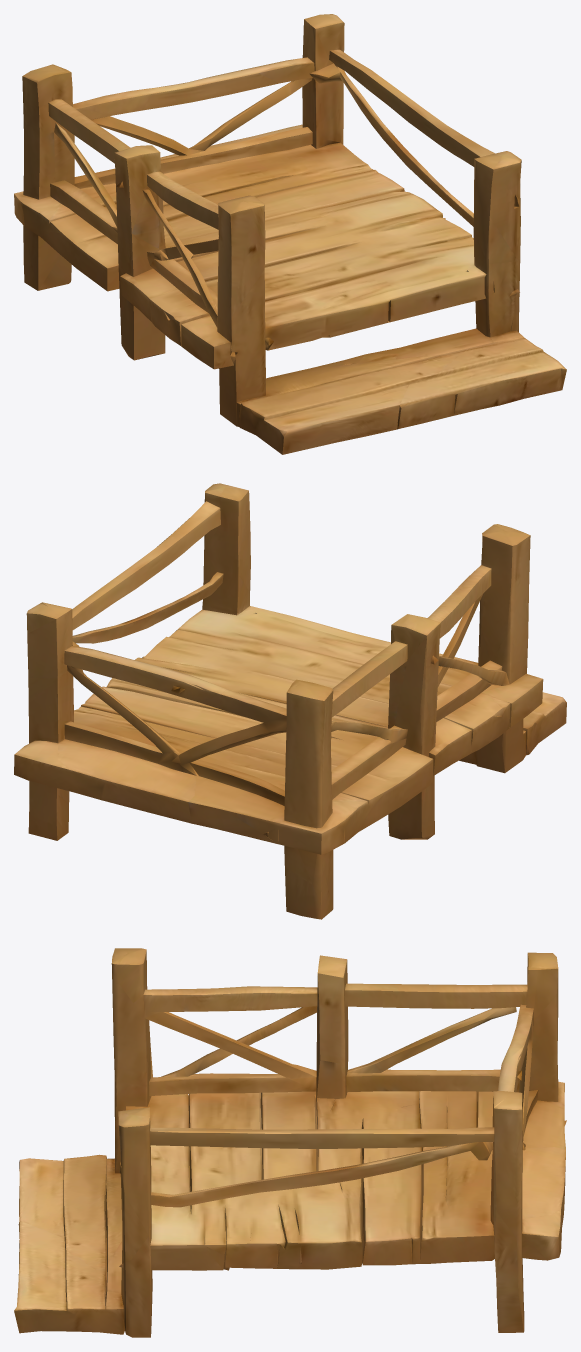
Rendered from woodenFootbridge.glb.
3 renders of one model, top to bottom at view 1: azimuth 30°, elevation 25°; view 2: azimuth 150°, elevation 25°; view 3: azimuth 270°, elevation 25°, orthographic. The views are drawn at different scales.
Visible parts, largest first — view 1: model; view 2: model; view 3: model.
Part boxes in pixels (left/top/right/bottom): model: left=14, top=14, right=566, bottom=454; model: left=14, top=483, right=566, bottom=919; model: left=14, top=948, right=566, bottom=1337.
Size of the model in its own units: 1.35 by 0.9018 by 1.89.
1 material, 1 textured.
